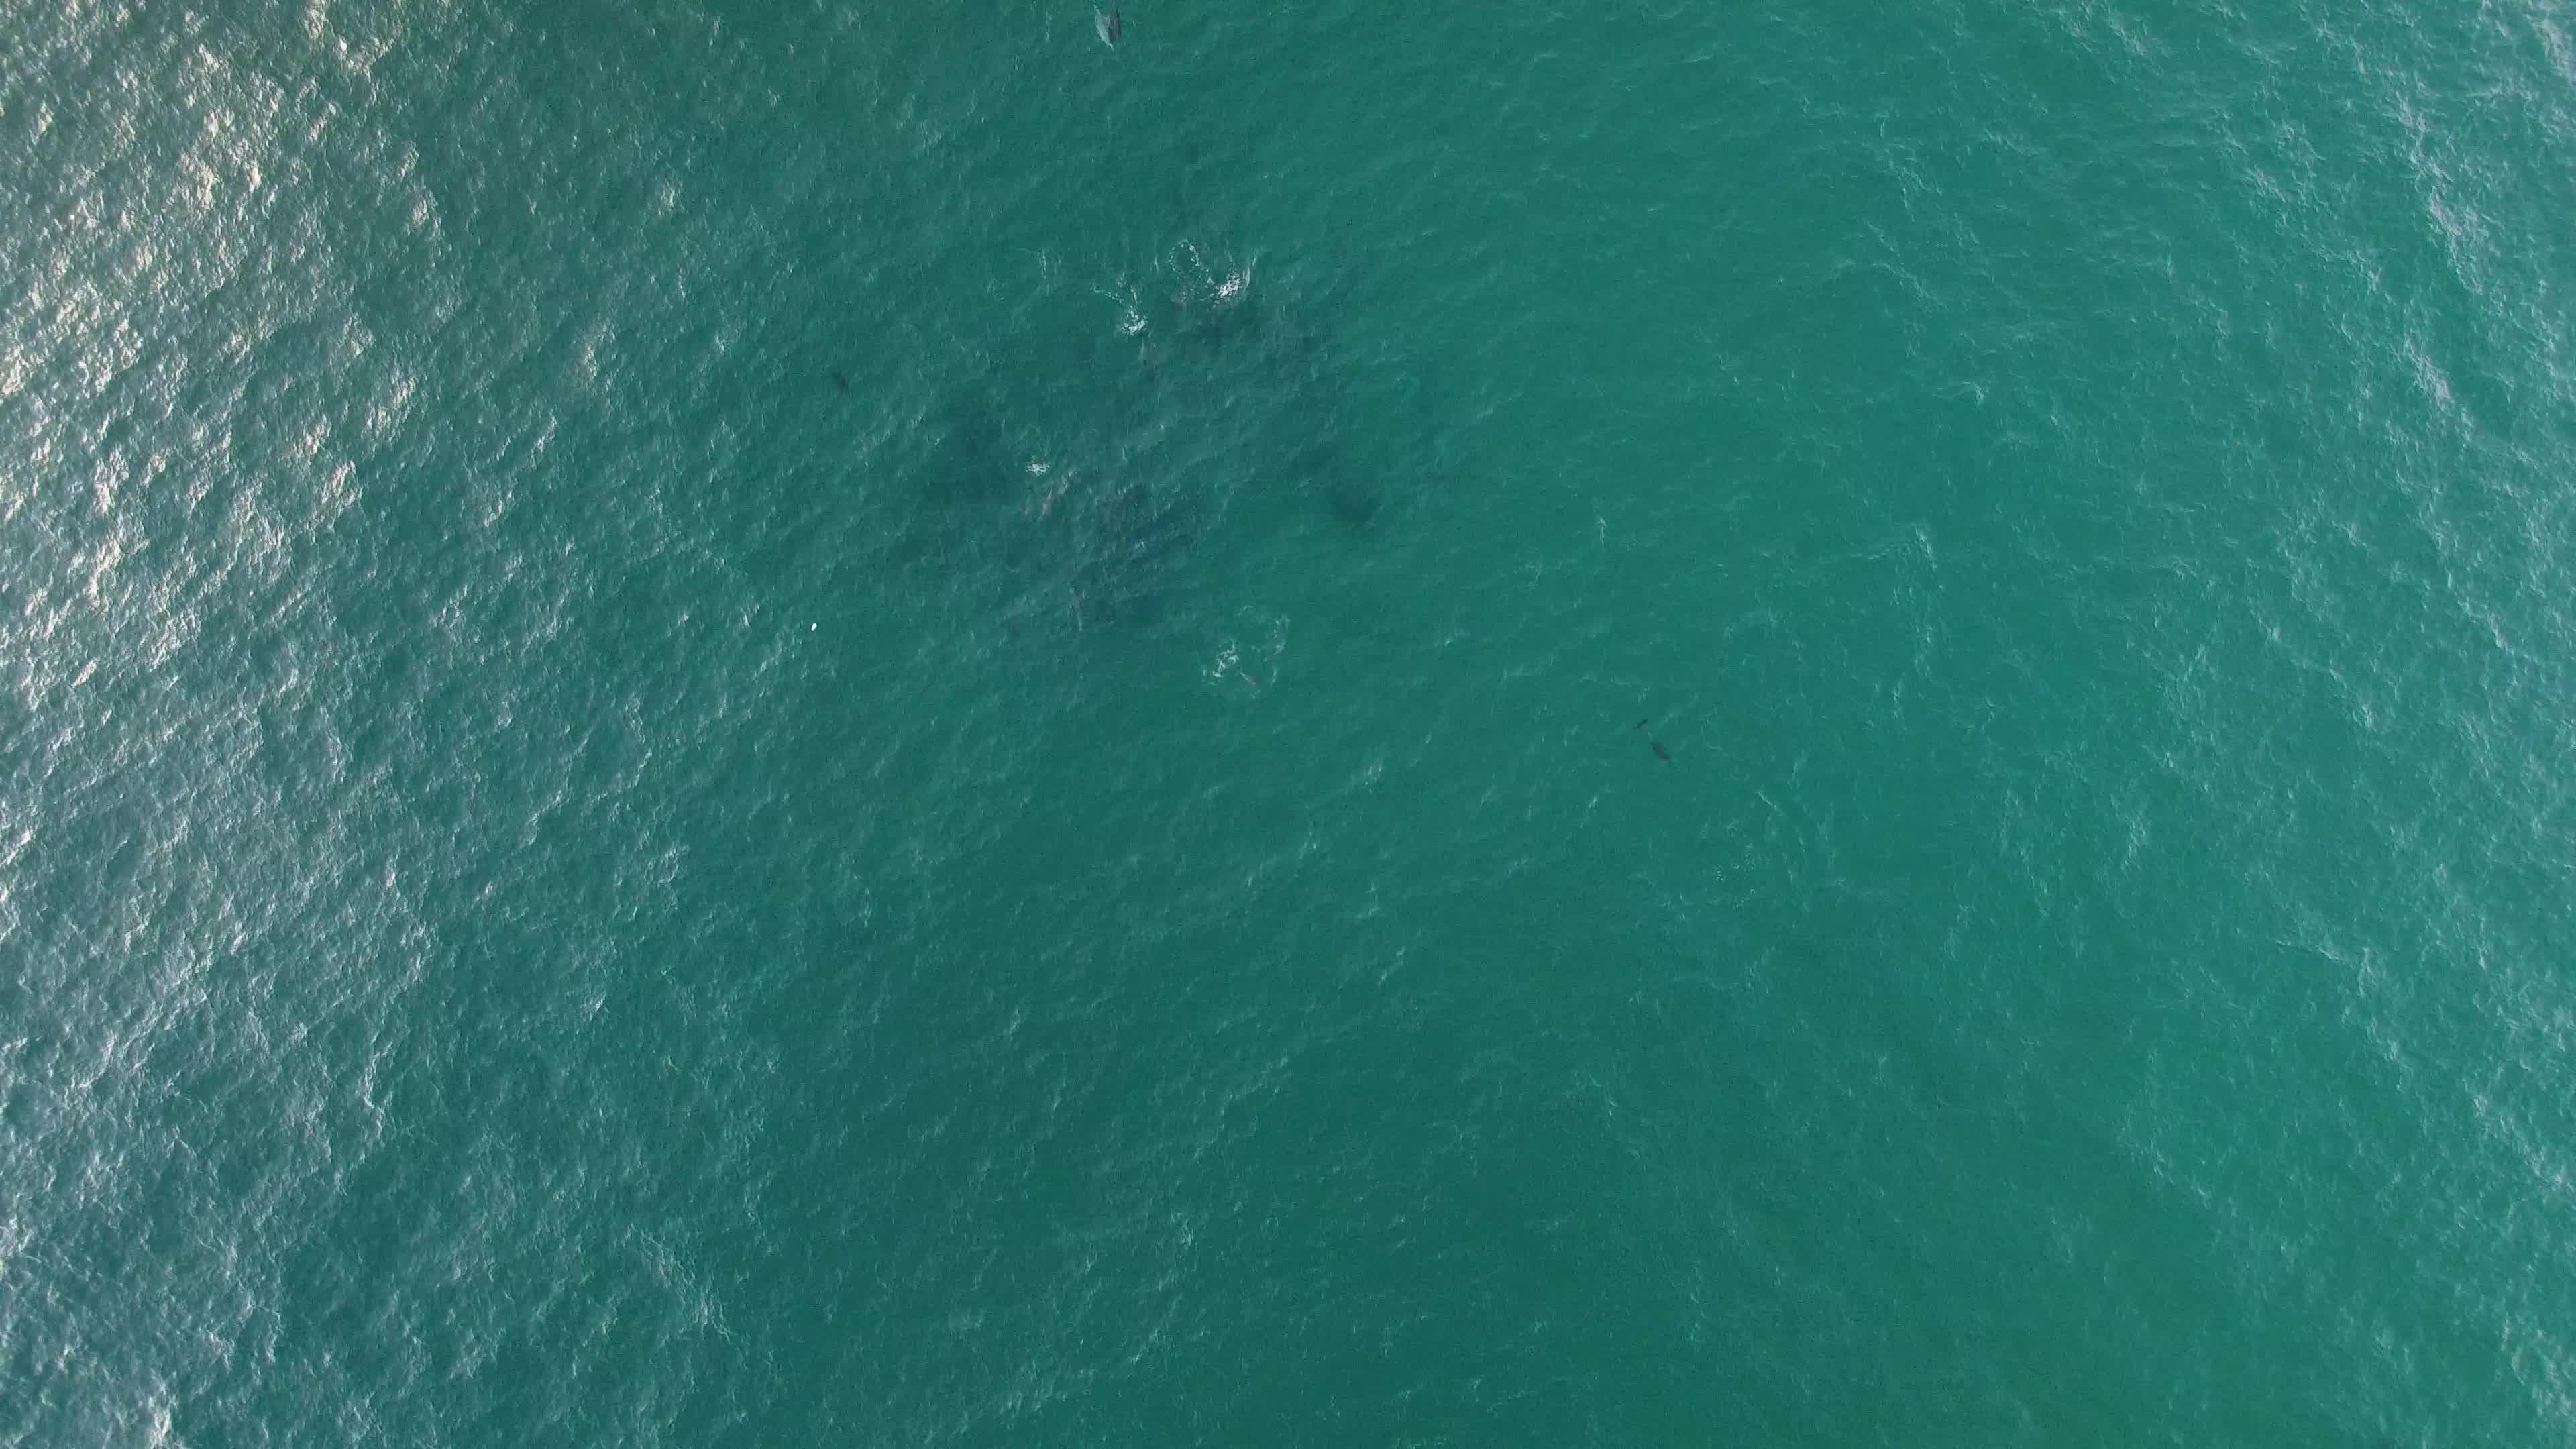dolphin: (1619, 695, 1684, 775), (1076, 0, 1164, 51)
